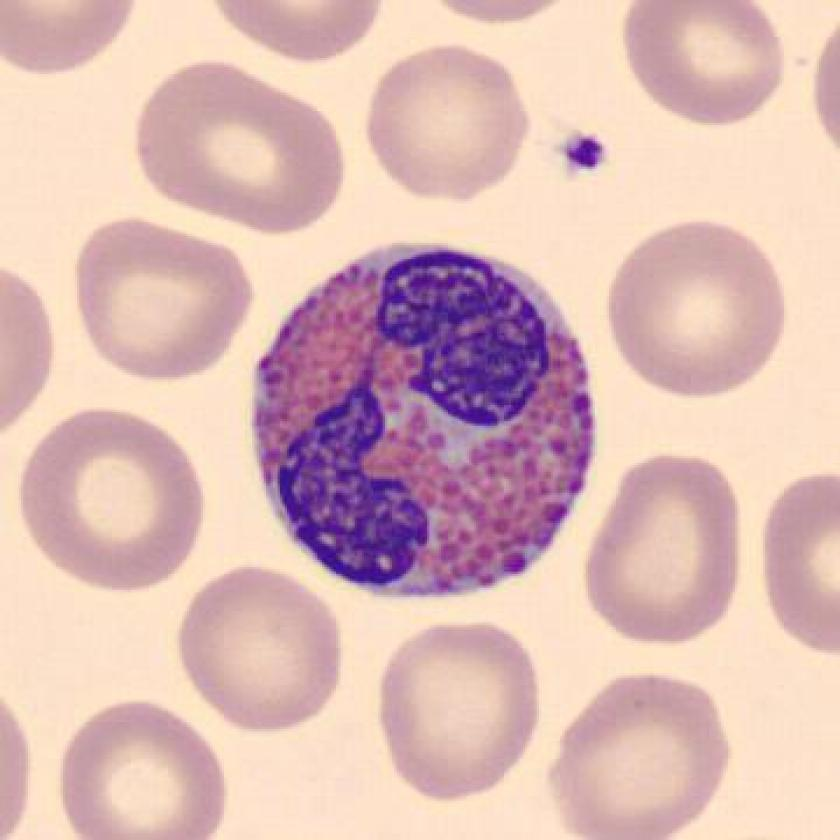eosinophil: (239, 228, 610, 607)
